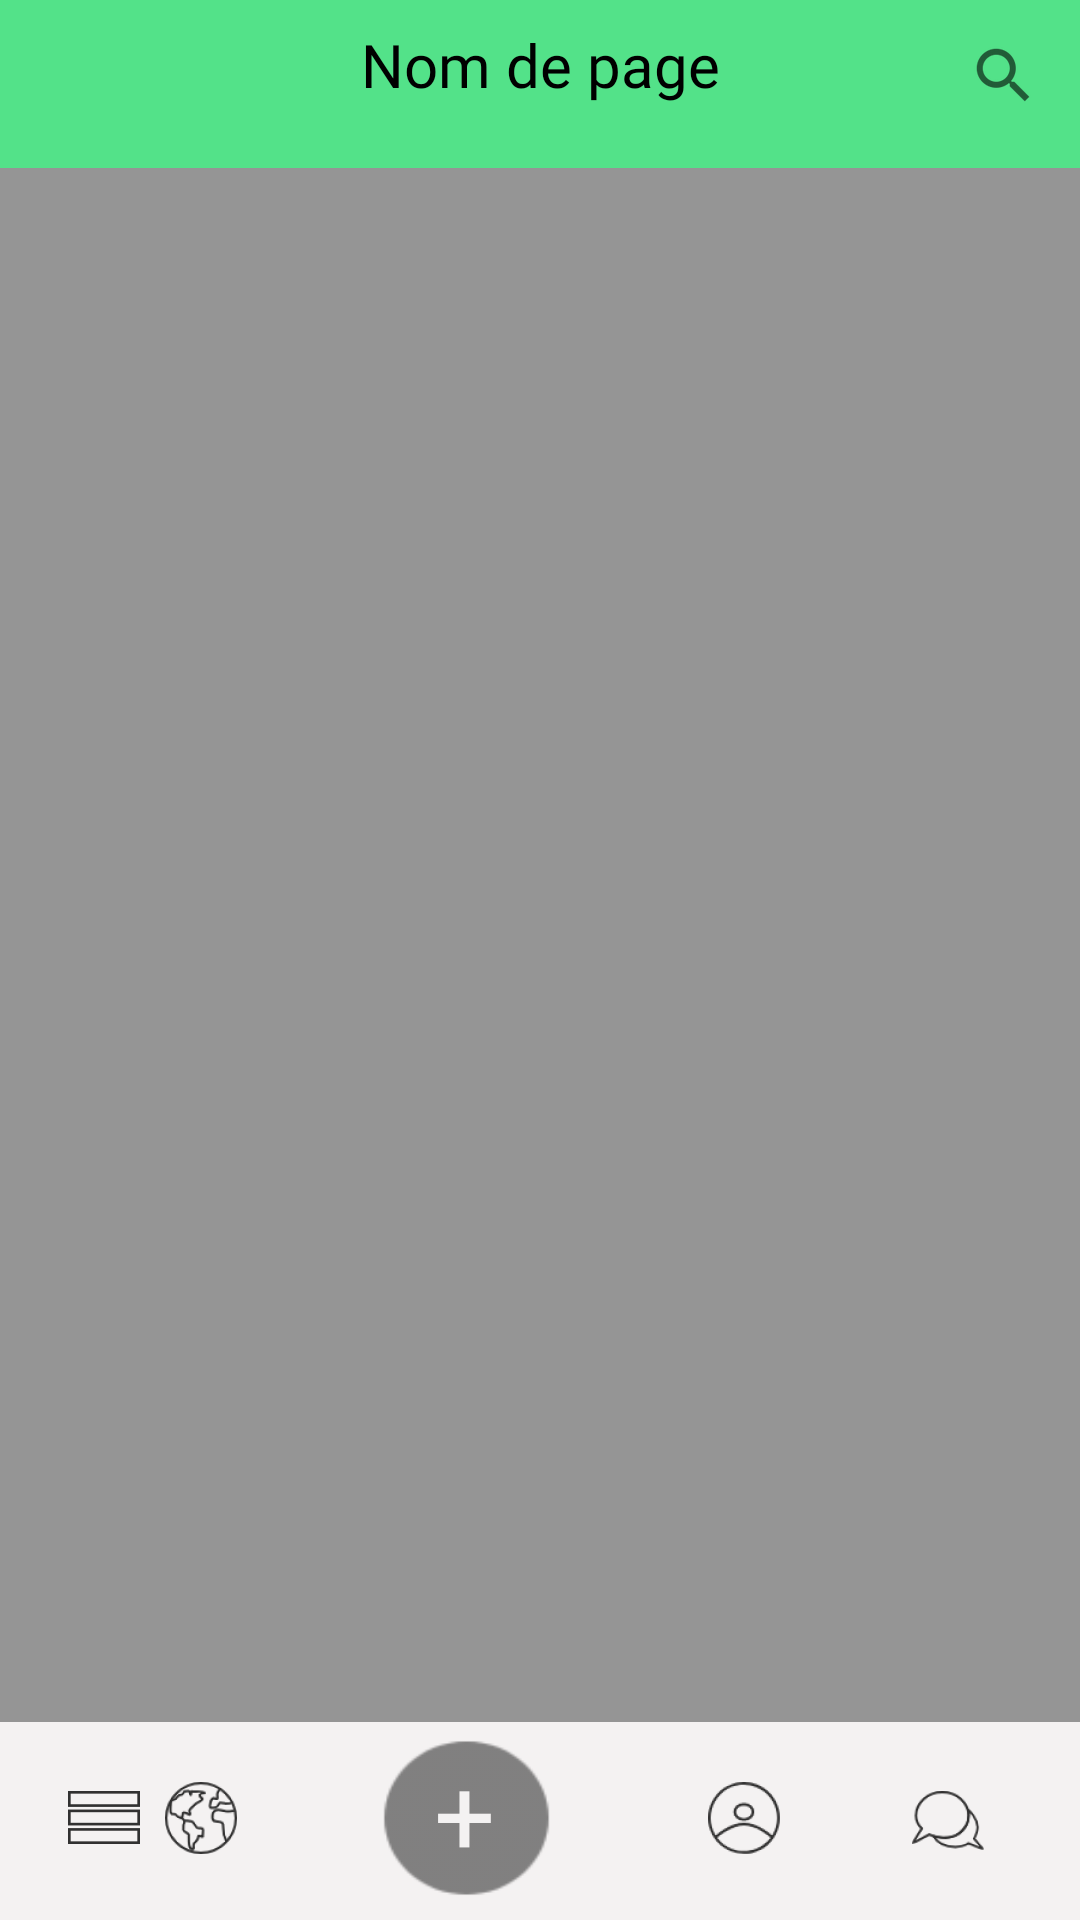

Point at icon controls on the screen. Image size 1080 x 1920, points as [x,y].
add: [466,1818]
discuss: [948,1820]
menu: [104,1817]
planet: [201,1818]
